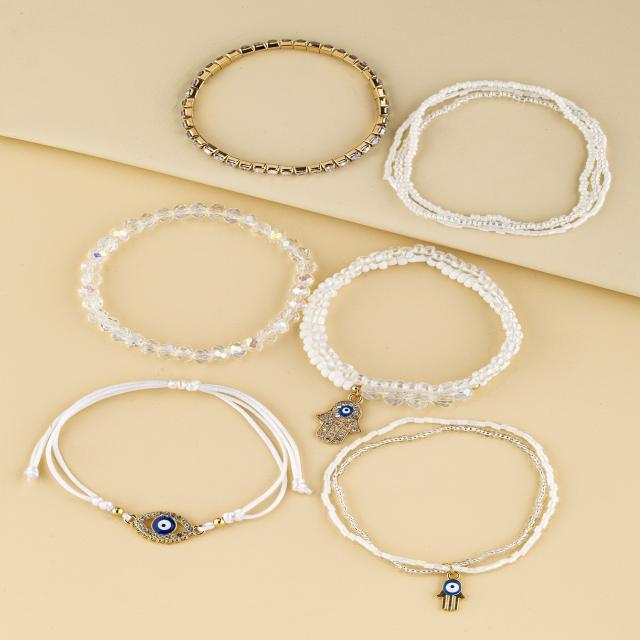bracelet: (8, 346, 326, 568), (322, 420, 640, 620), (48, 157, 317, 388), (303, 222, 582, 438), (366, 36, 640, 255), (133, 7, 419, 195)
